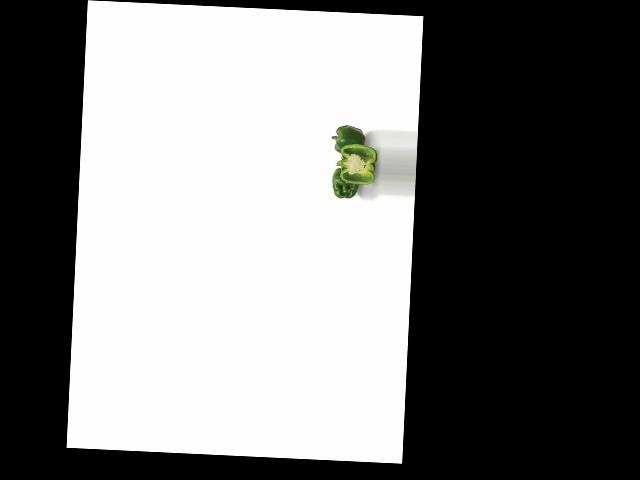bell_pepper: (328, 164, 362, 202)
